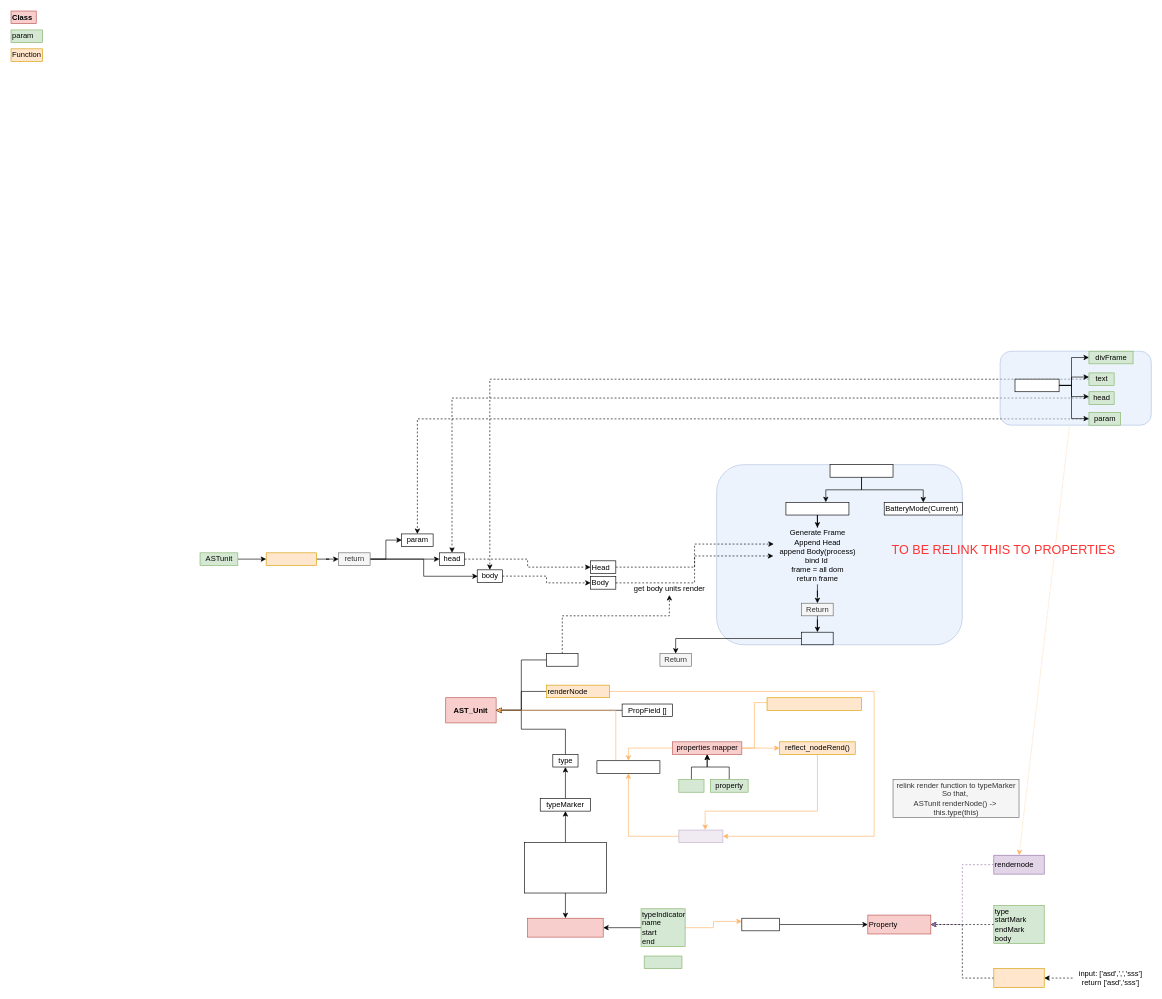
The diagram is 1162 pixels wide and 999 high, and some of its shapes have lost their labels. The shapes that lost their labels are listed below. From the top down, each one's box as (x1, y1, x2, y2) in pixels, then its label:
(1014, 379, 1059, 392): unitRender
(829, 464, 893, 477): sM.presentMode
(785, 502, 849, 515): unitMode(Default)
(266, 552, 317, 565): ASTRender
(801, 632, 833, 645): Frame
(546, 653, 578, 666): Body []
(766, 697, 862, 710): reflect_PropertyContent()
(596, 760, 660, 773): propMapperList
(678, 779, 704, 792): field
(678, 829, 723, 843): combiner
(524, 842, 606, 893): function class variable description annotation
(527, 918, 603, 937): AST_Type_Register
(741, 918, 780, 931): properties
(644, 955, 682, 969): structure
(993, 968, 1044, 988): codeFormat
